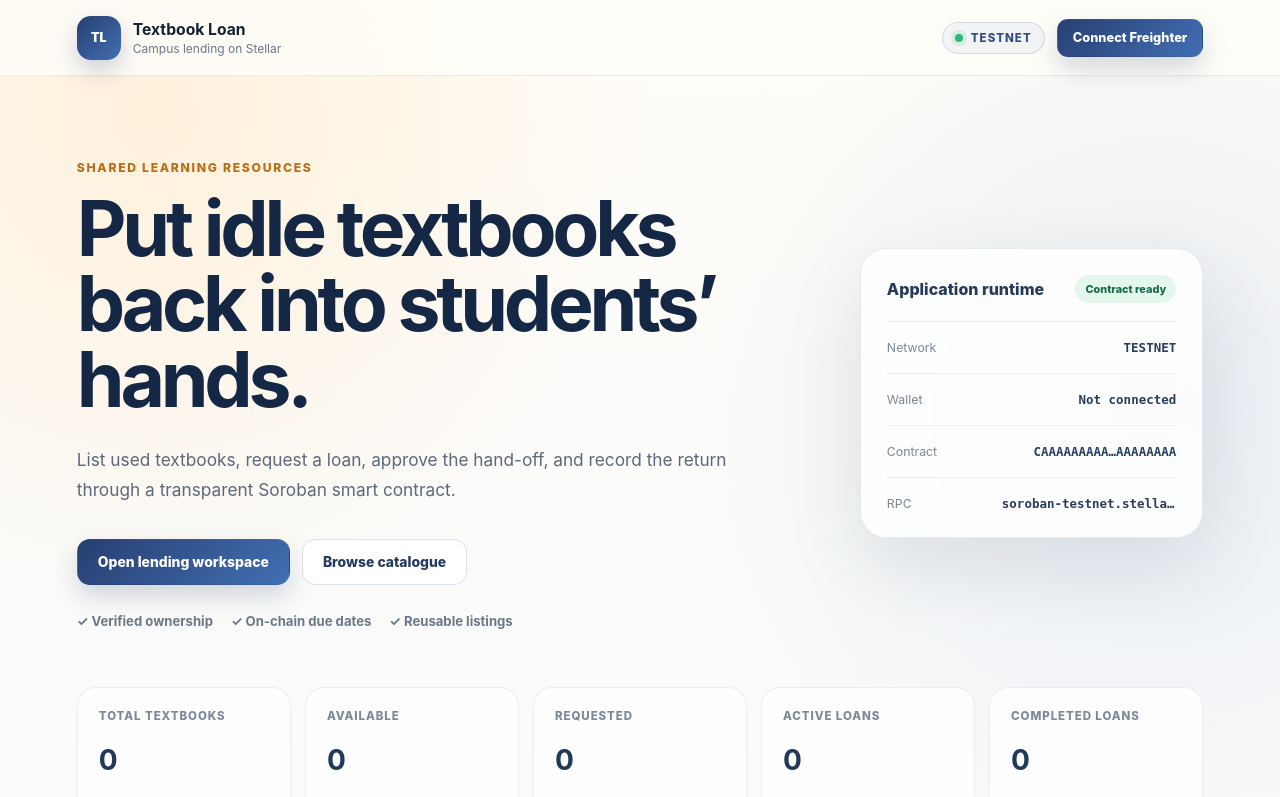
Test: Textbook Loan dashboard › connects the wallet and loads the catalogue
Click the button "Connect Freighter" at (1130, 38), box [1057,18,1203,56]
(page scrolled)
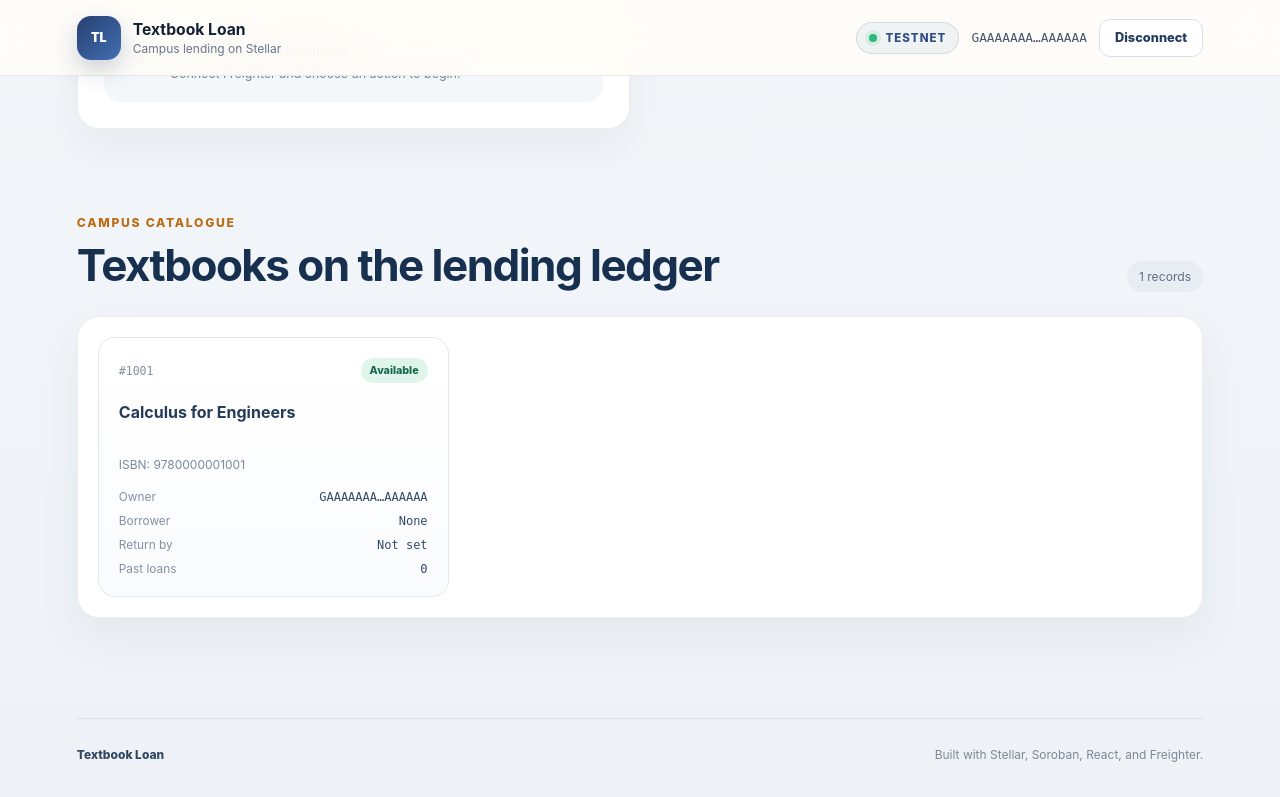
Expected: the button "Disconnect" is shown, [1099,18,1203,56]
Expected: the heading "Calculus for Engineers" is shown, [119,402,296,422]
